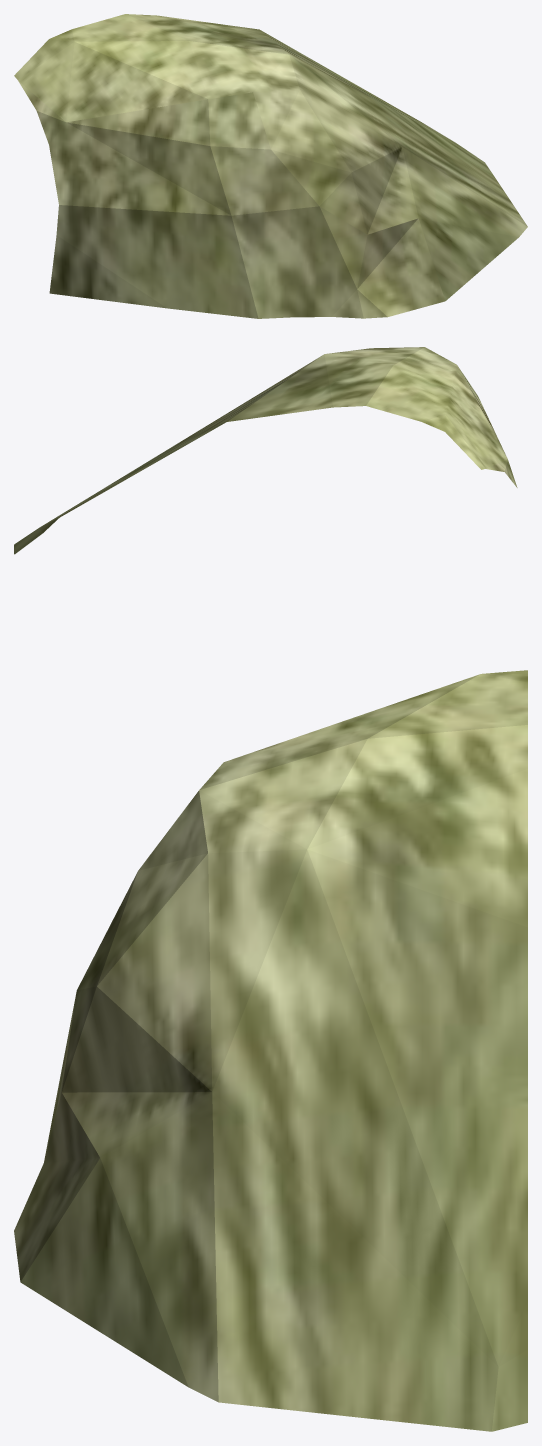
The picture shows the model from 3 angles, top to bottom: view 1: azimuth 30°, elevation 25°; view 2: azimuth 150°, elevation 25°; view 3: azimuth 270°, elevation 25°; orthographic projection. The views are drawn at different scales.
Size of the model in its own units: 1.88 by 0.8857 by 1.02.
1 material, 1 textured.
